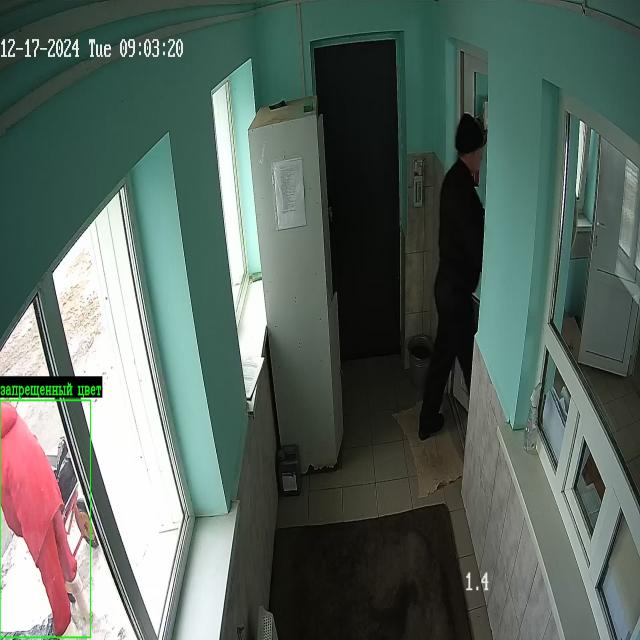Person: (418, 114, 487, 440)
Red uniform: (0, 404, 77, 633)
